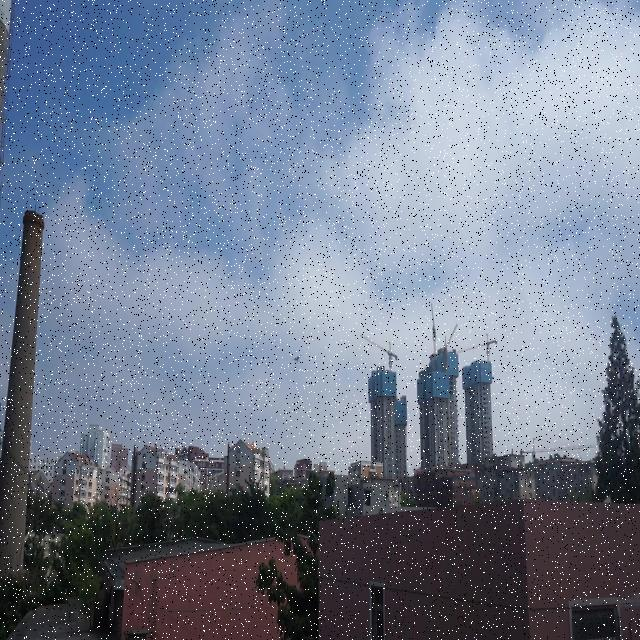UAV: (292, 354, 302, 364)
